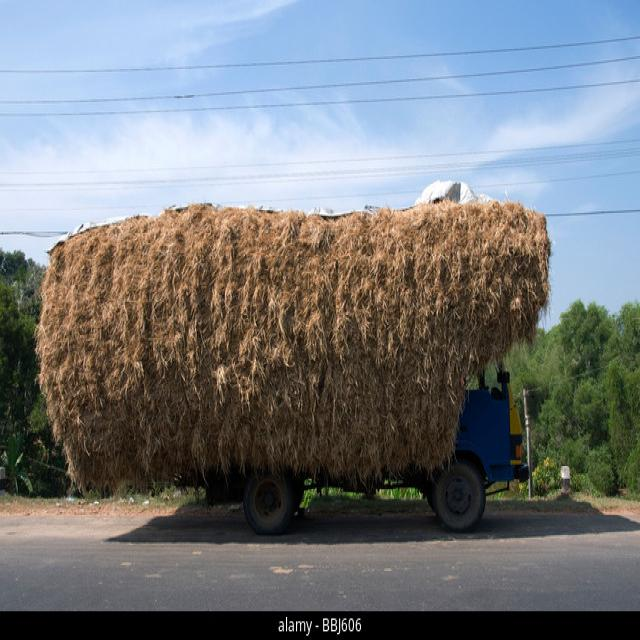normal_truck: (397, 362, 530, 531), (216, 473, 305, 536)
overloaded_truck: (37, 184, 552, 495)
